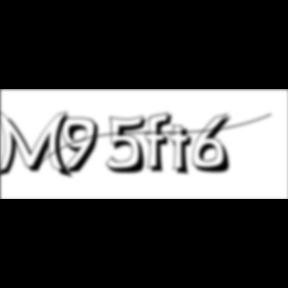5: (106, 114, 153, 176)
6: (192, 112, 238, 176)
9: (60, 117, 106, 177)
M: (0, 108, 76, 181)
f: (146, 111, 178, 175)
t: (168, 124, 199, 179)
